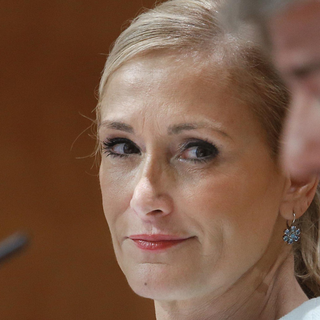eye: (173, 139, 223, 166), (99, 134, 143, 162)
